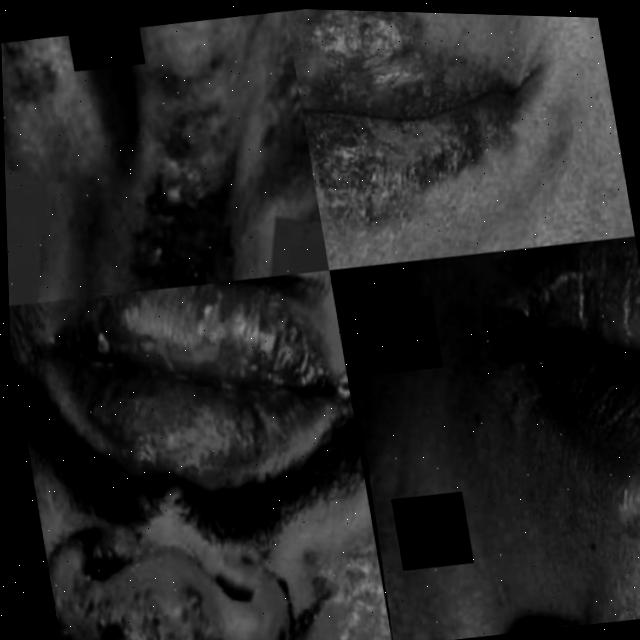lupus-detected: (382, 228, 640, 628), (0, 2, 330, 311), (285, 8, 569, 276), (36, 474, 285, 640), (355, 408, 503, 640), (207, 480, 393, 640), (13, 356, 105, 640), (1, 21, 166, 151), (284, 8, 436, 96)
